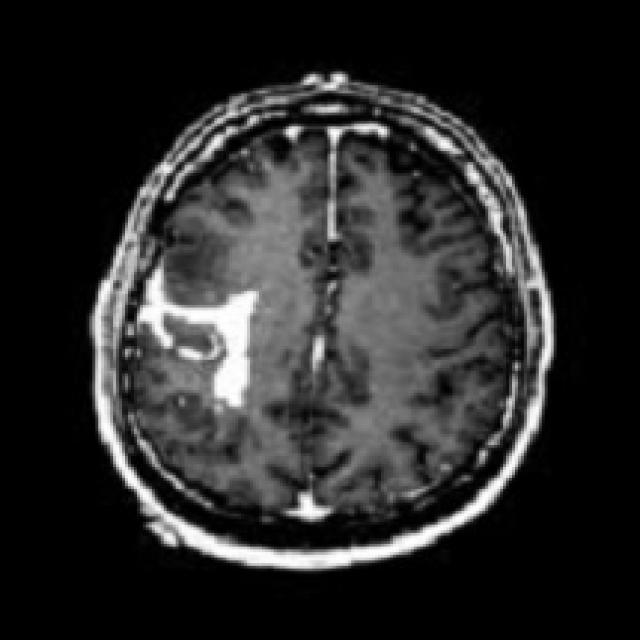Tumor: (142, 266, 269, 411)
